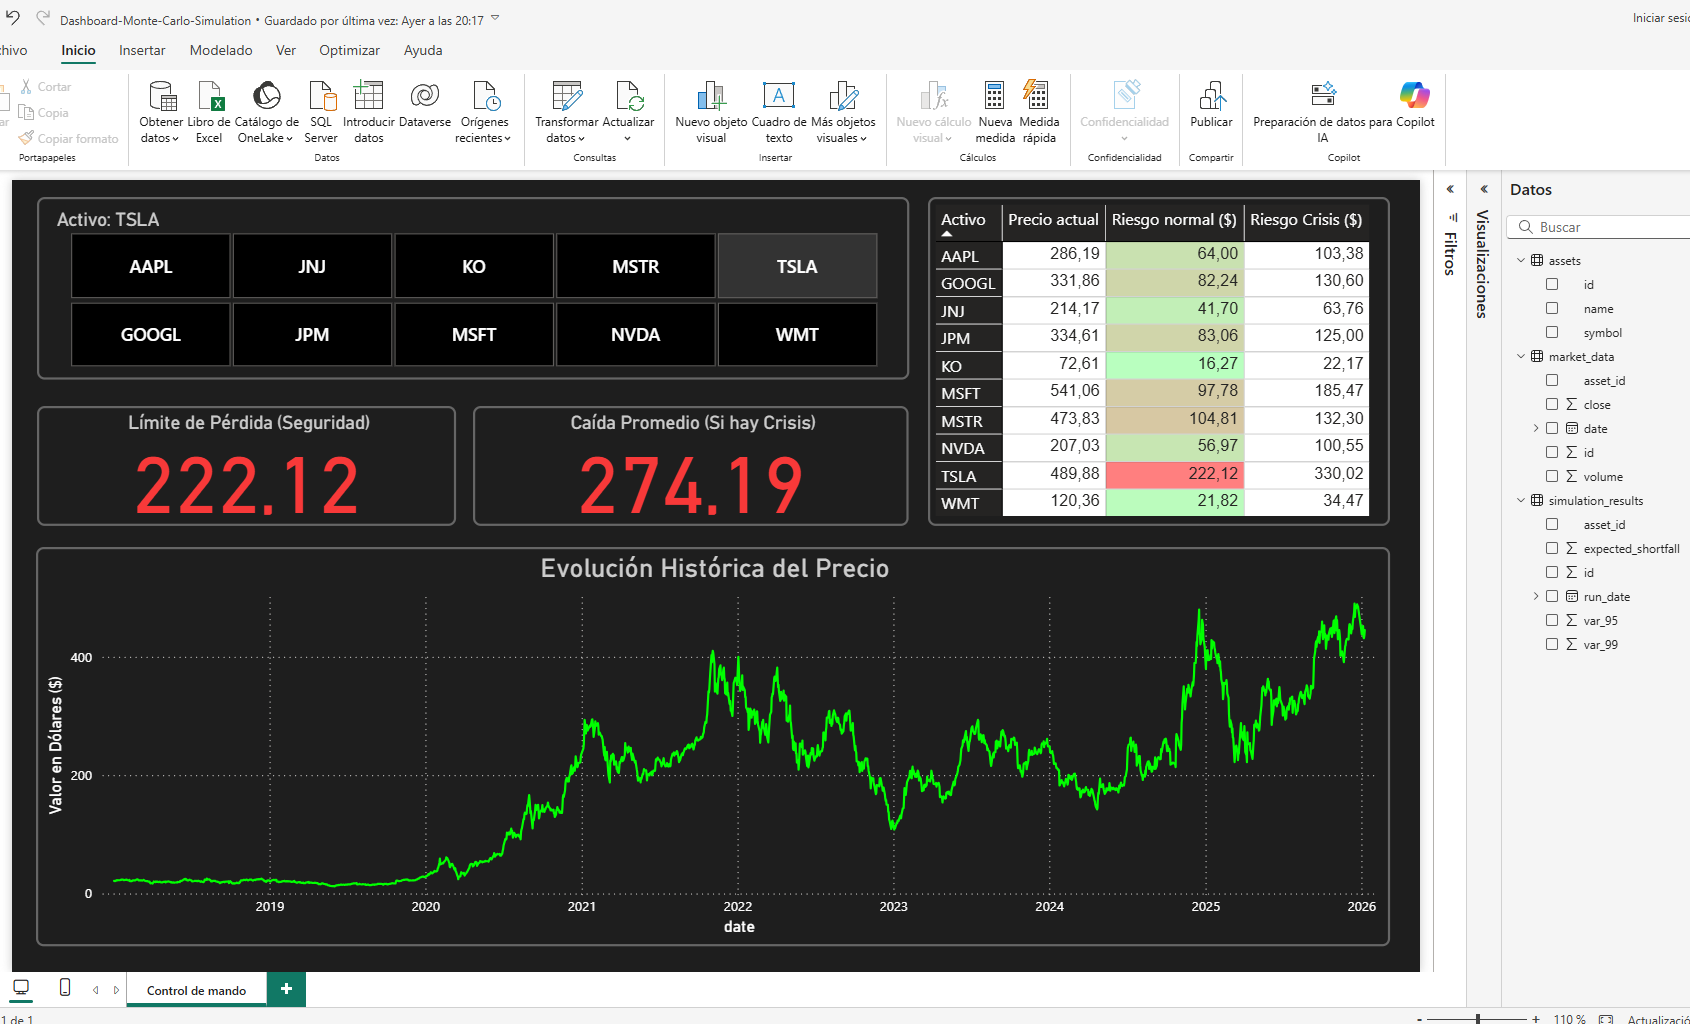

The dashboard page shown, as its layout file describes it:
{"tool":"powerbi","page":{"name":"Página 1","canvas":[1280,720],"ordinal":0},"visuals":[{"type":"slicer","fields":{"Values":["assets.symbol"]},"box":[22.5,15,792.5,166.2],"z":0},{"type":"card","title":"Límite de Pérdida (Seguridad)","fields":{"Values":["Max(simulation_results.var_95)"]},"box":[23,205,381,109],"z":1000},{"type":"card","title":"Caída Promedio (Si hay Crisis)","fields":{"Values":["Max(simulation_results.expected_shortfall)"]},"box":[419,205,396,109],"z":2000},{"type":"lineChart","title":"Evolución Histórica del Precio","fields":{"Y":["Sum(market_data.close)"],"Category":["market_data.date"]},"box":[22,334,1231,363],"z":3000},{"type":"pivotTable","fields":{"Rows":["assets.symbol"],"Values":["Max(market_data.close)","Max(simulation_results.var_95)","Max(simulation_results.var_99)"]},"box":[833,15,420,299],"z":4000}]}

Visuals, with their boxes on the page's 1280x720 design canvas (x1, y1, x2, y2). These are canvas units, not pixel positions in the 1690x1024 screenshot, which may show the page scaled, cropped or inside an application window:
slicer - assets.symbol: Rect(22, 15, 815, 181)
"Límite de Pérdida (Seguridad)" card: Rect(23, 205, 404, 314)
"Caída Promedio (Si hay Crisis)" card: Rect(419, 205, 815, 314)
"Evolución Histórica del Precio" lineChart: Rect(22, 334, 1253, 697)
pivotTable - assets.symbol x Max(market_data.close): Rect(833, 15, 1253, 314)
